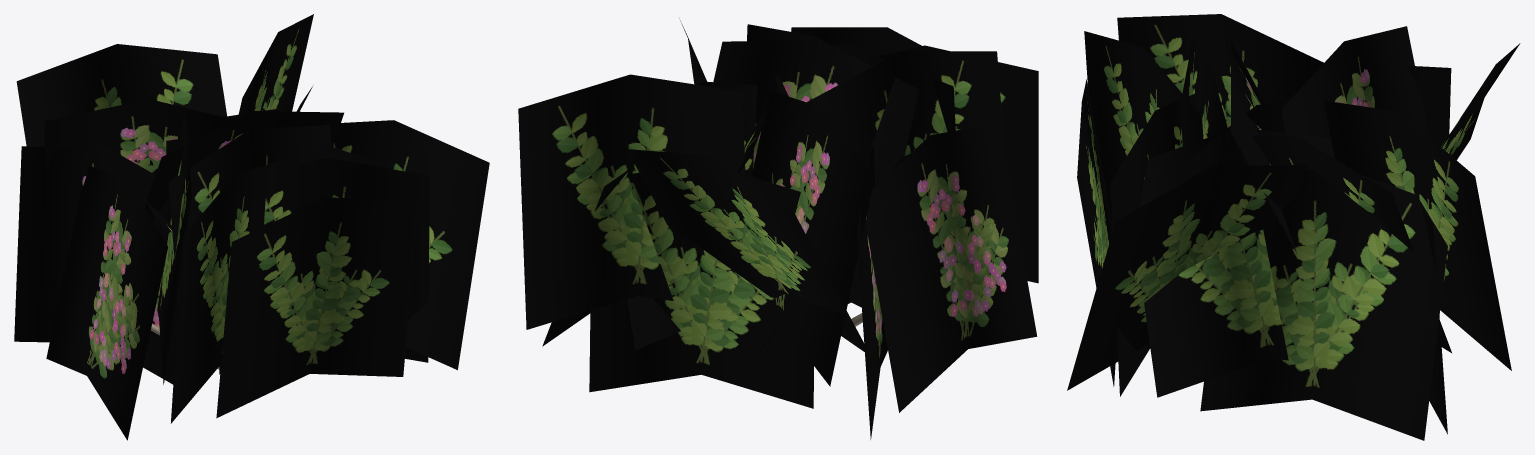
The model's file is flower-shrub.glb.
The picture shows the model from 3 angles, left to right: view 1: azimuth 30°, elevation 25°; view 2: azimuth 150°, elevation 25°; view 3: azimuth 270°, elevation 25°; orthographic projection. The views are drawn at different scales.
Parts seen in each view (by area): view 1: flower-shrub_landscape_foliage; view 2: flower-shrub_landscape_foliage; view 3: flower-shrub_landscape_foliage.
Boxes of the visible parts, <box> form: flower-shrub_landscape_foliage: <box>14,14,489,440</box>; flower-shrub_landscape_foliage: <box>518,20,1038,439</box>; flower-shrub_landscape_foliage: <box>1067,14,1520,440</box>.
Bounding box in the file's own units: 1.52 × 1.2 × 1.55.
2 materials, 1 textured.
